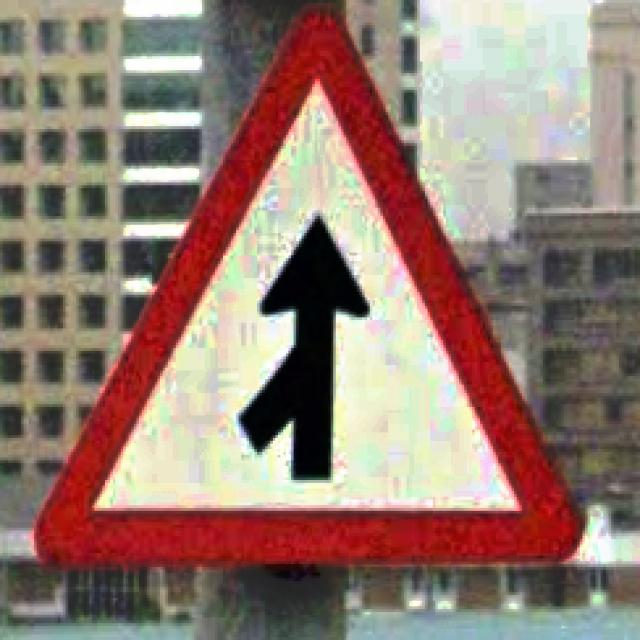leftmerge: (34, 8, 585, 570)
